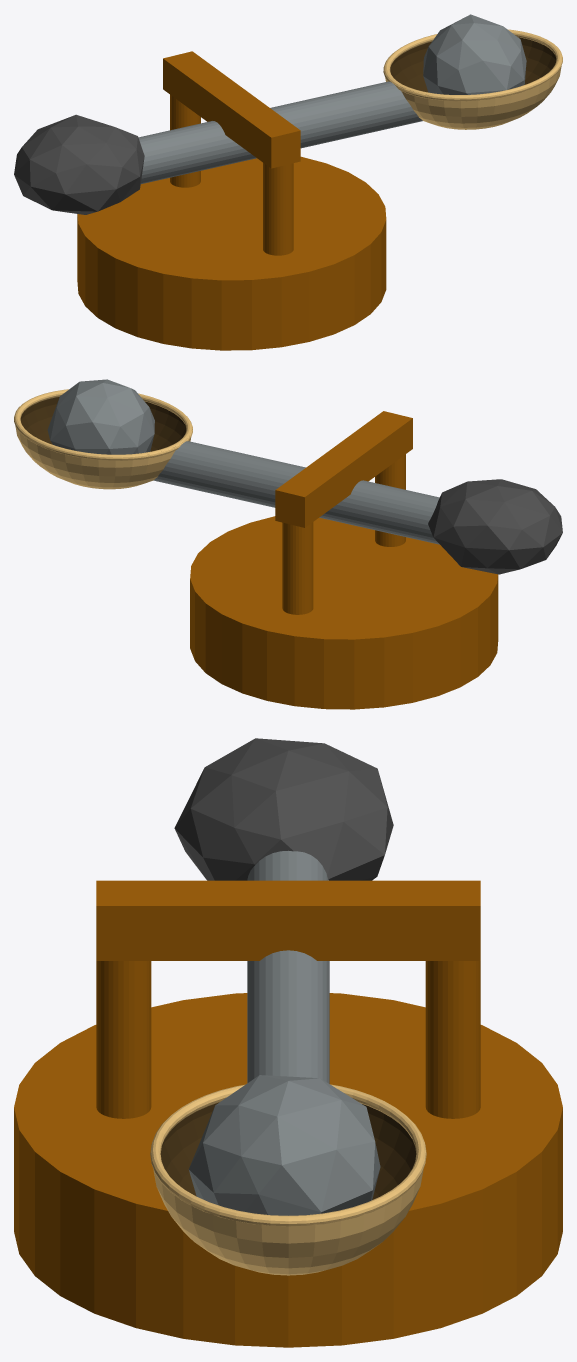
File: catapult.fbx
3 views of the same model, one above another, from view 1: azimuth 30°, elevation 25°; view 2: azimuth 150°, elevation 25°; view 3: azimuth 270°, elevation 25° (orthographic). The views are drawn at different scales.
Visible parts, largest first — view 1: Stativ, Stone.001, Stone; view 2: Stativ, Stone.001, Stone; view 3: Stativ, Stone.001, Stone.
Boxes of the visible parts, x1,y1,x2,y2 form: Stativ: (77, 51, 386, 350); Stone.001: (14, 29, 562, 214); Stone: (423, 14, 526, 94); Stativ: (190, 411, 498, 709); Stone.001: (14, 389, 562, 574); Stone: (47, 379, 154, 454); Stativ: (14, 880, 562, 1347); Stone.001: (150, 738, 426, 1275); Stone: (188, 1075, 380, 1215).
Bounding box in the file's own units: 795 × 290 × 400.
